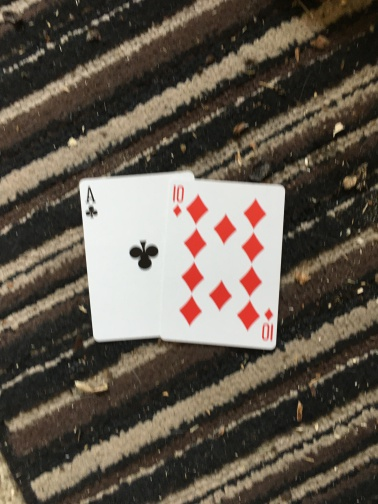ace: (79, 172, 164, 341)
ten: (165, 177, 285, 347)
